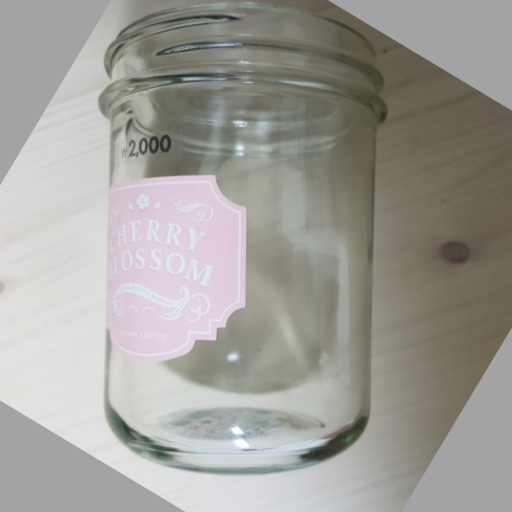Glass_5: (100, 7, 382, 467)
